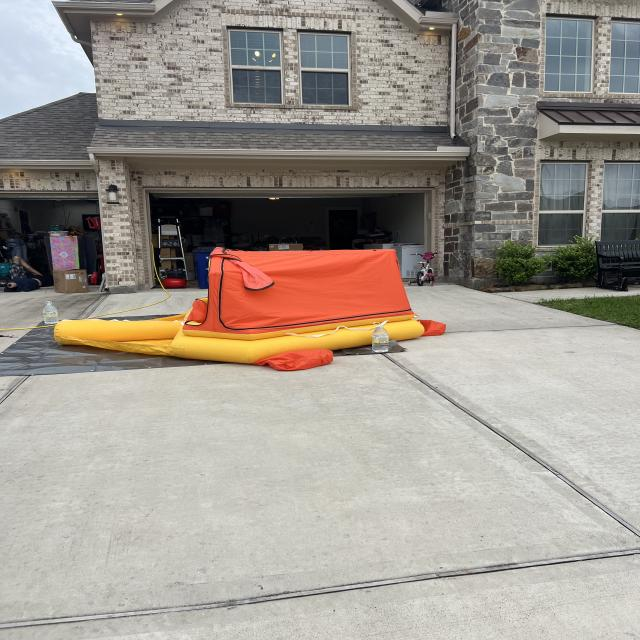Multi-person_life_raft: (54, 246, 446, 372)
